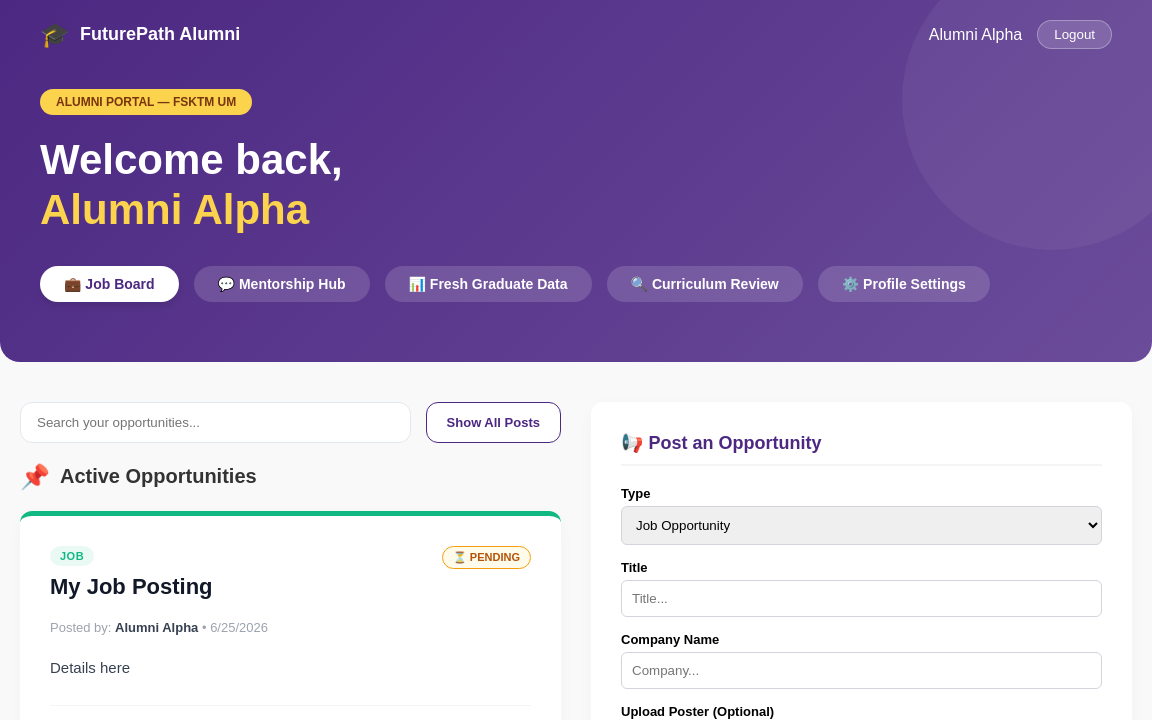
AlumniDashboard Filter Toggle Tests › filters posts correctly when "Showing Mine" toggle is clicked
The image size is (1152, 720).
Expected: the heading "My Job Posting" is shown, top-left (50, 574), bottom-right (213, 600)
// Find and click the toggle
Click the button "Show All Posts" at (493, 422), box top-left (426, 402), bottom-right (561, 443)
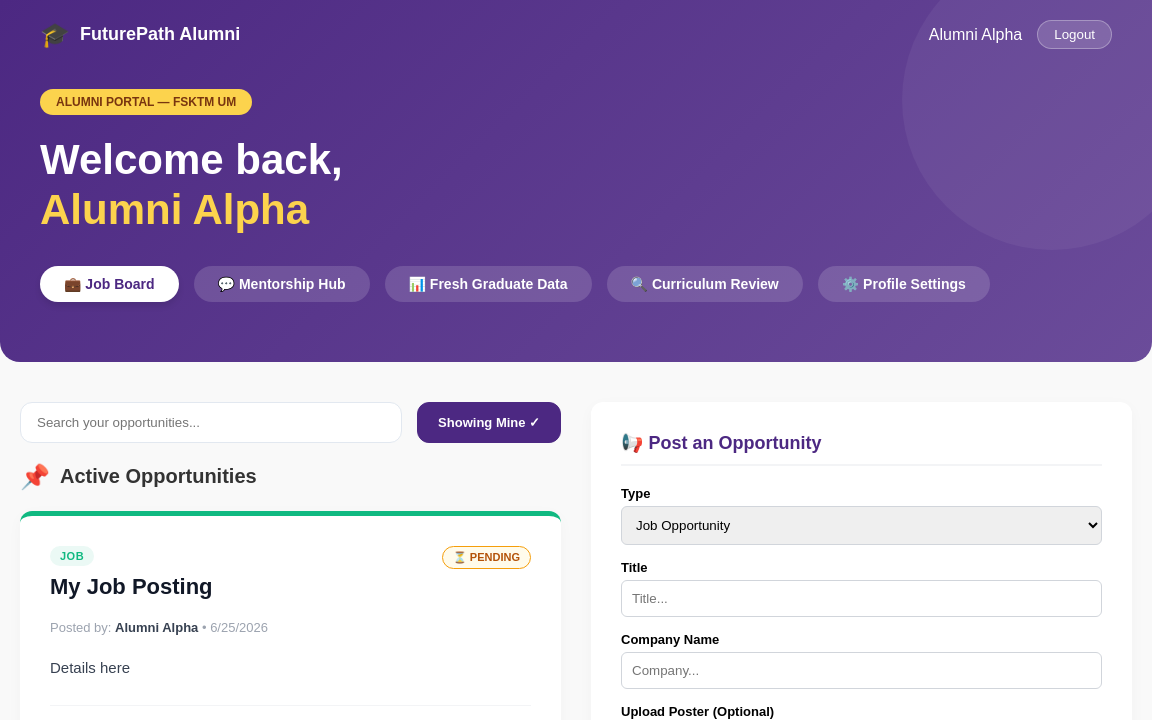
Expected: the heading "My Job Posting" is shown, top-left (50, 574), bottom-right (213, 600)
Expected: the button "Showing Mine ✓" is shown
// Toggle back
Click the button "Showing Mine ✓" at (489, 422), box top-left (417, 402), bottom-right (561, 443)
(page scrolled)
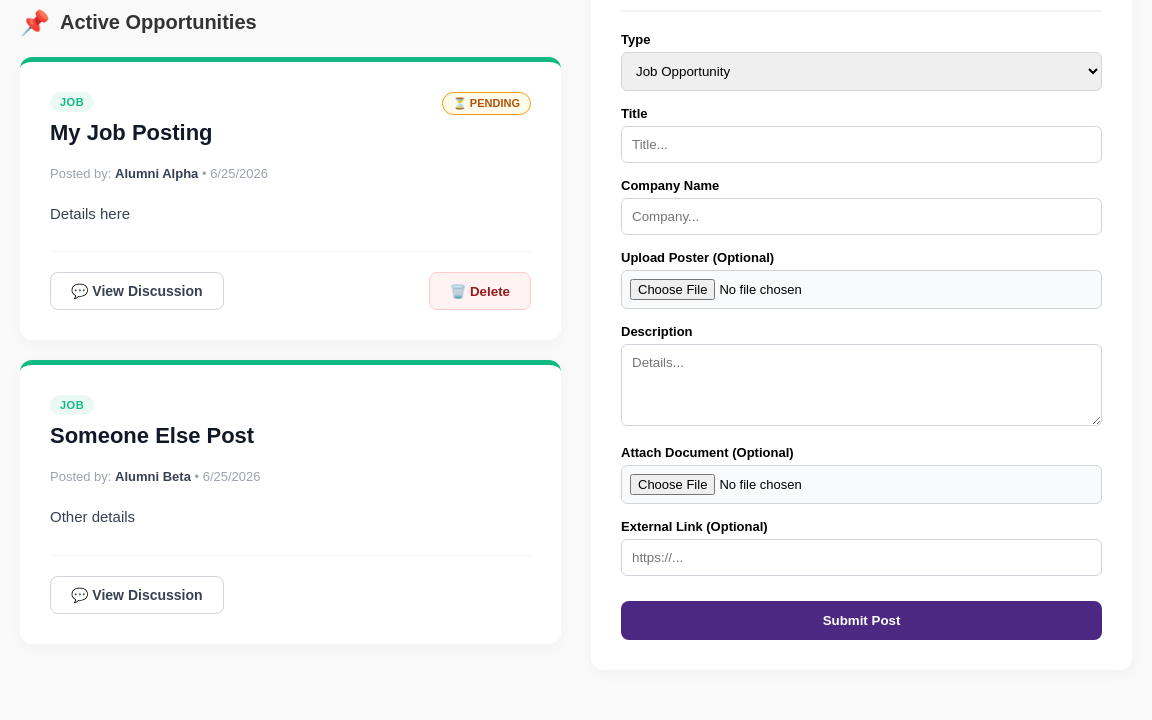
Expected: the heading "Someone Else Post" is shown, top-left (50, 423), bottom-right (254, 449)
